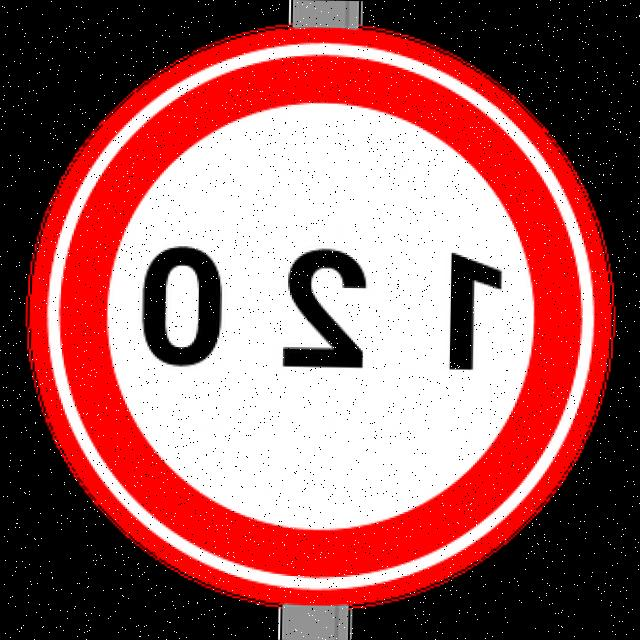speed_limit_120: (18, 19, 620, 610)
